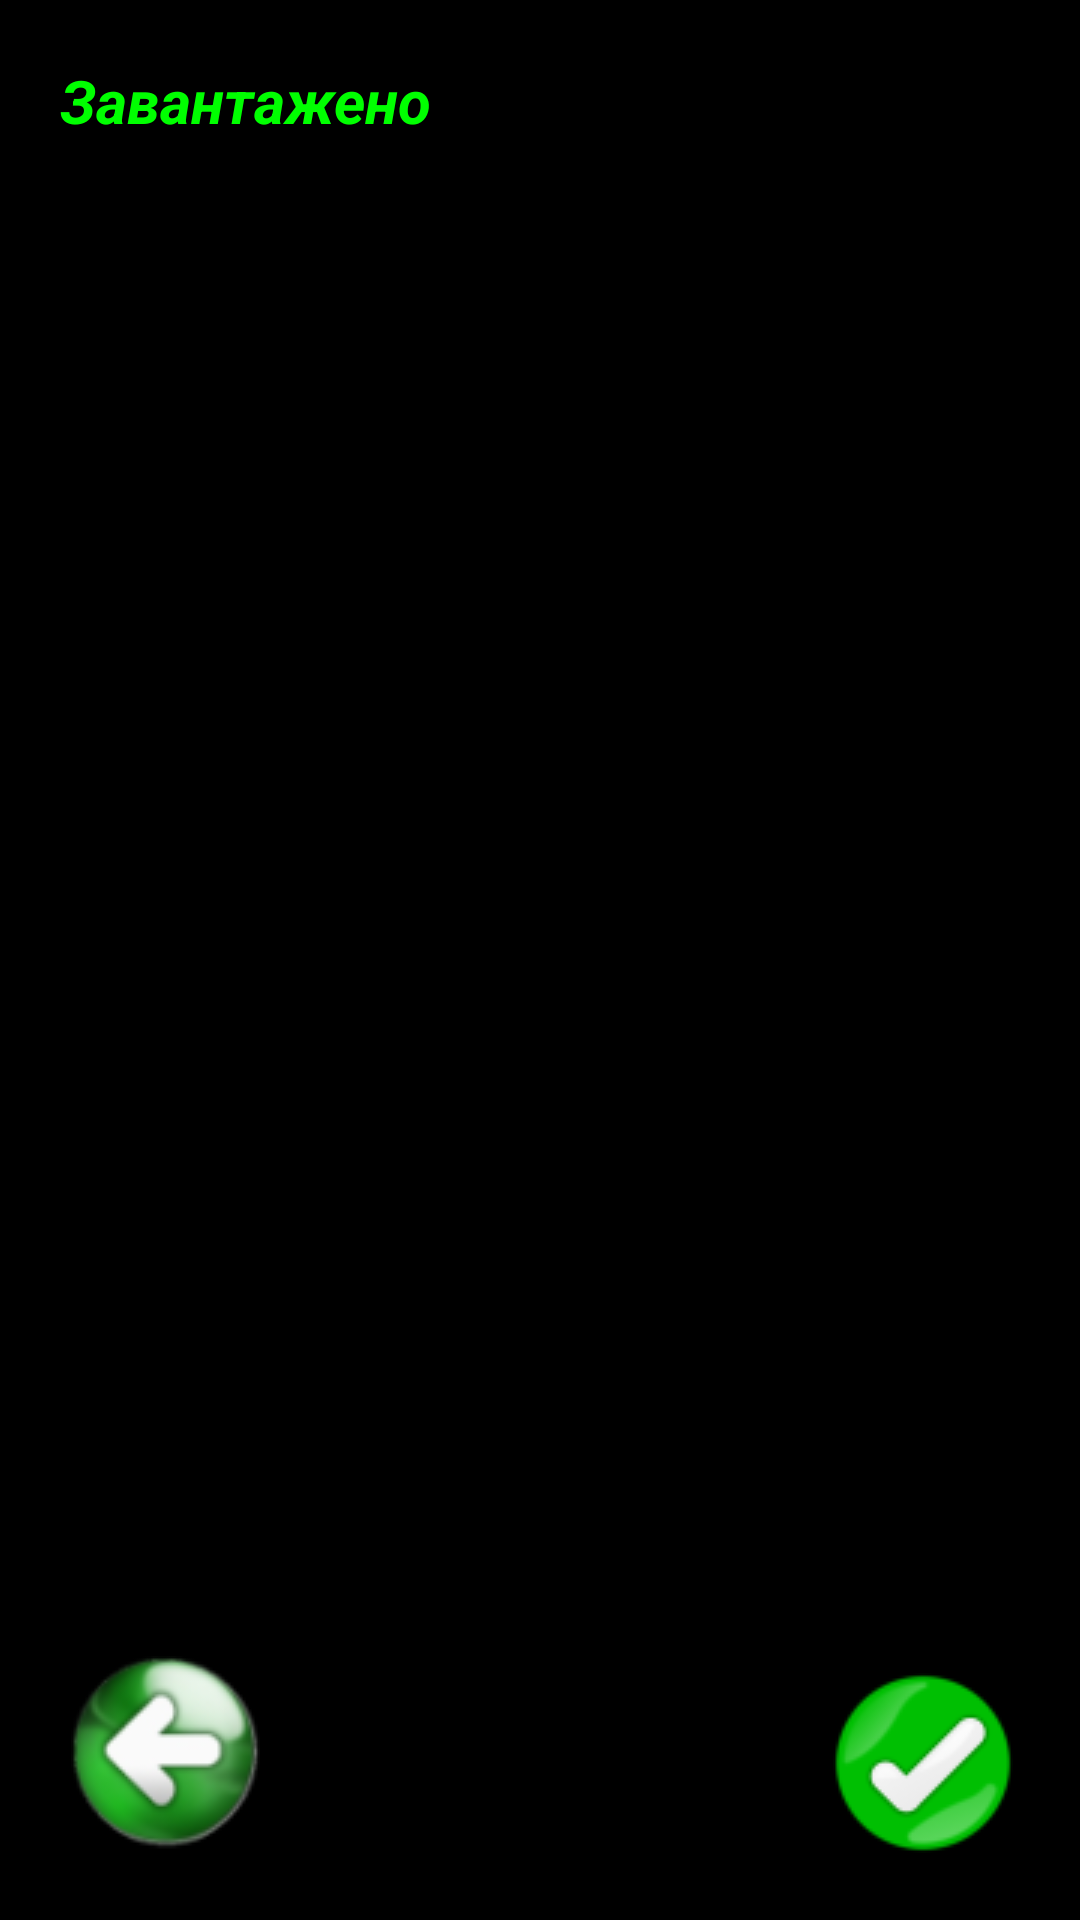

Screen size 1080px x 1920px. Icon name, then its box in pixels as [left=x1, top=y1, right=x2, bottom=y2]:
back: [left=73, top=1658, right=258, bottom=1846]
ok images: [left=835, top=1675, right=1011, bottom=1851]
